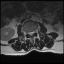CCS_normal: (30, 29, 32, 37)
LFS_normal: (34, 28, 35, 34)
LLS_normal: (32, 29, 34, 36)
RFS_normal: (26, 29, 28, 36)
RLS_normal: (28, 29, 30, 36)
